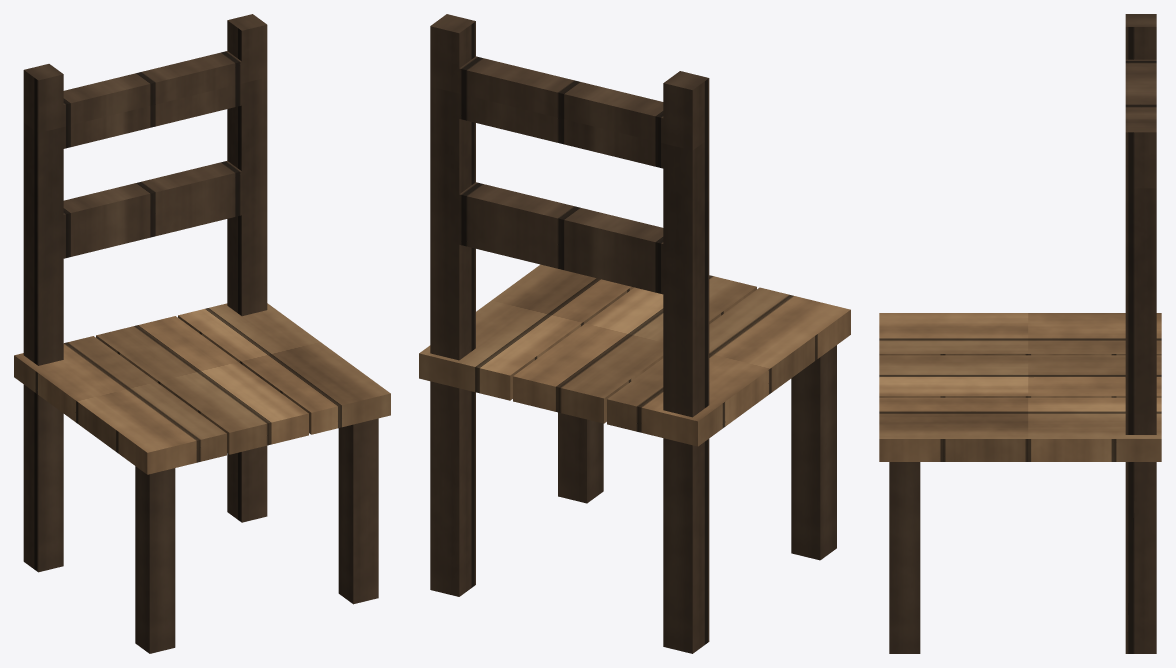
File: Chair_1.gltf
3 views of the same model, side by side, from view 1: azimuth 30°, elevation 25°; view 2: azimuth 150°, elevation 25°; view 3: azimuth 270°, elevation 25° (orthographic). The views are drawn at different scales.
Parts seen in each view (by area): view 1: Chair_1; view 2: Chair_1; view 3: Chair_1.
Part boxes in pixels (x1,y1,x2,y2): Chair_1: [14, 14, 390, 653]; Chair_1: [419, 14, 850, 653]; Chair_1: [879, 14, 1161, 653].
Bounding box in the file's own units: 0.58 × 1.12 × 0.55.
Materials: 2 (2 with a texture image).
